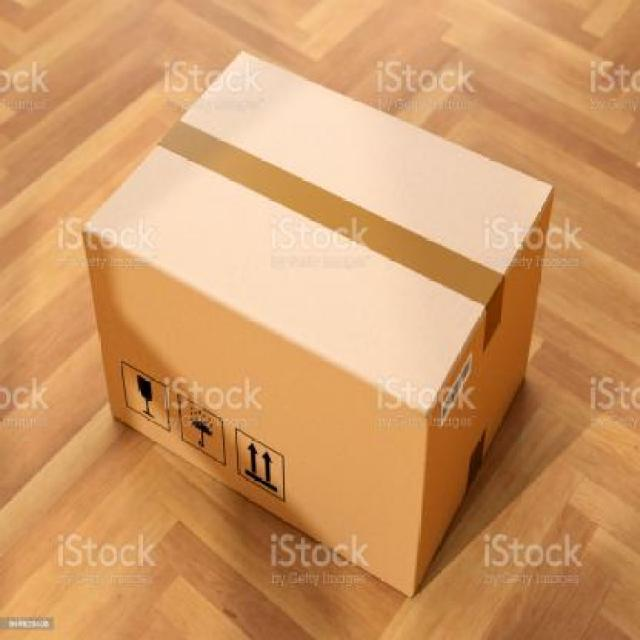box: (76, 51, 552, 594)
